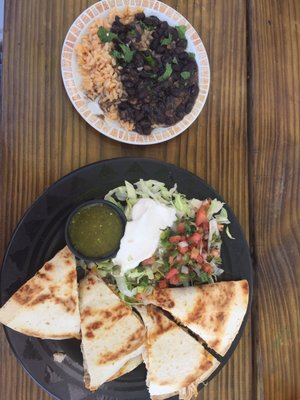sushi: (60, 0, 211, 147)
